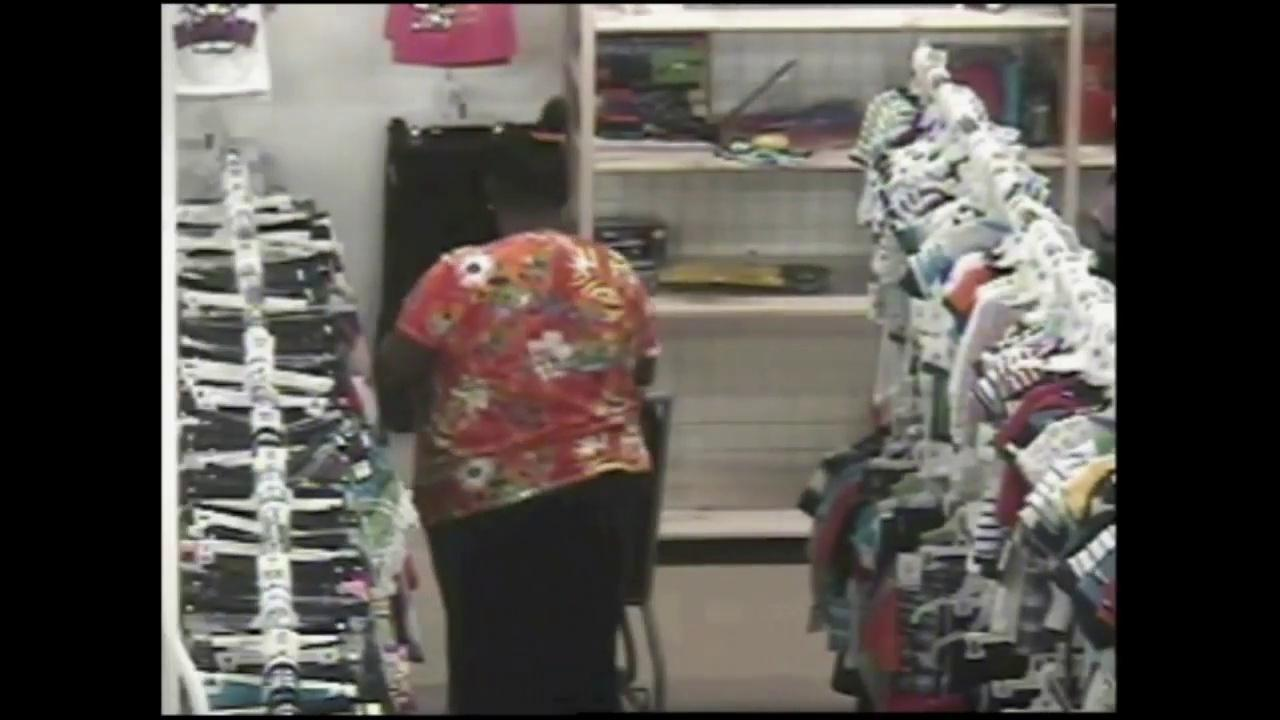Regular: (304, 73, 758, 720)
